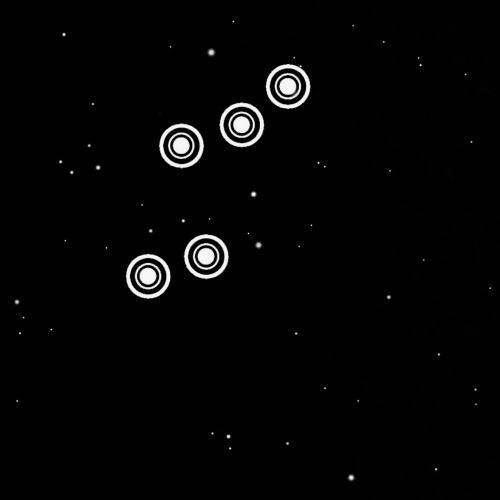lyra: (117, 44, 324, 311)
